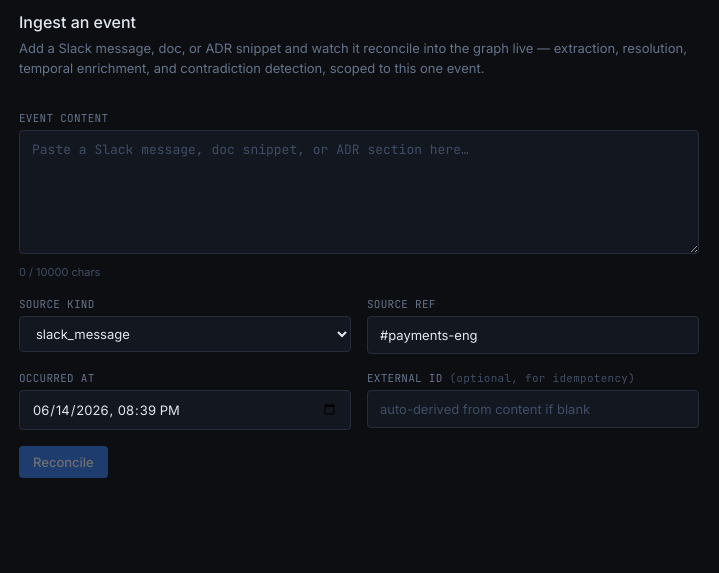
Test case: Ingest page › shows a friendly message on a 503 busy response
Type "welcome aboard Nadia Okafor, joining as a Software Engineer" into the text box labelled "Event content" at (359, 192), box [19,130,699,254]
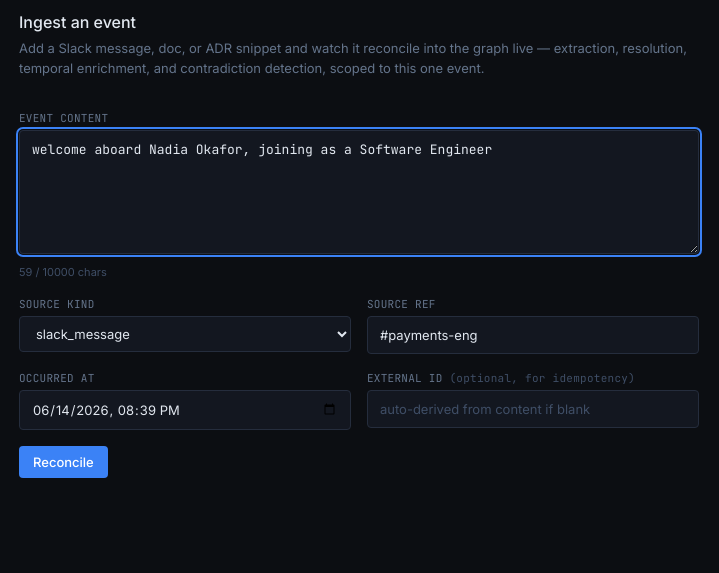
Click the button "Reconcile" at (63, 462), box [19,446,108,478]
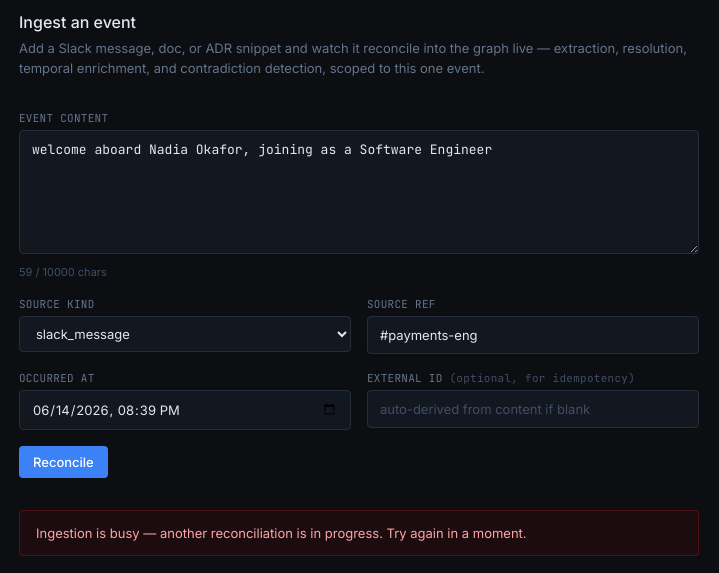
Now the text "Ingestion is busy" is shown, box [36,525,527,541]
